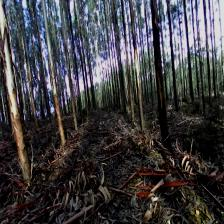trunk: (0, 48, 35, 175), (151, 2, 172, 140), (47, 40, 67, 144), (67, 59, 79, 131), (170, 40, 180, 110), (135, 66, 145, 130), (126, 56, 135, 119), (186, 33, 194, 101), (206, 38, 212, 100)
